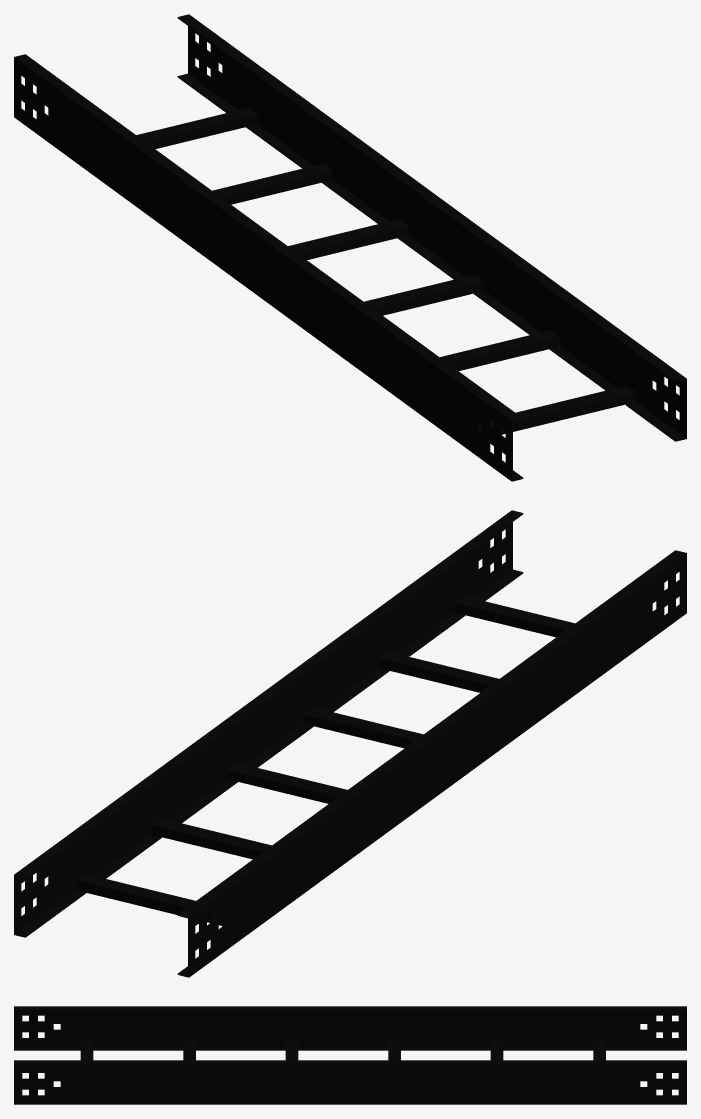
The model's file is str.glb.
3 renders of one model, top to bottom at view 1: azimuth 30°, elevation 25°; view 2: azimuth 150°, elevation 25°; view 3: azimuth 270°, elevation 25°, orthographic. The views are drawn at different scales.
Parts seen in each view (by area): view 1: node_id5; view 2: node_id5; view 3: node_id5.
Part boxes in pixels (bbox=[...]): node_id5: bbox=[14, 14, 686, 481]; node_id5: bbox=[14, 510, 686, 977]; node_id5: bbox=[14, 1006, 686, 1104].
Bounding box in the file's own units: 0.512 × 0.1684 × 2.52.
Materials: 1 (1 with a texture image).
